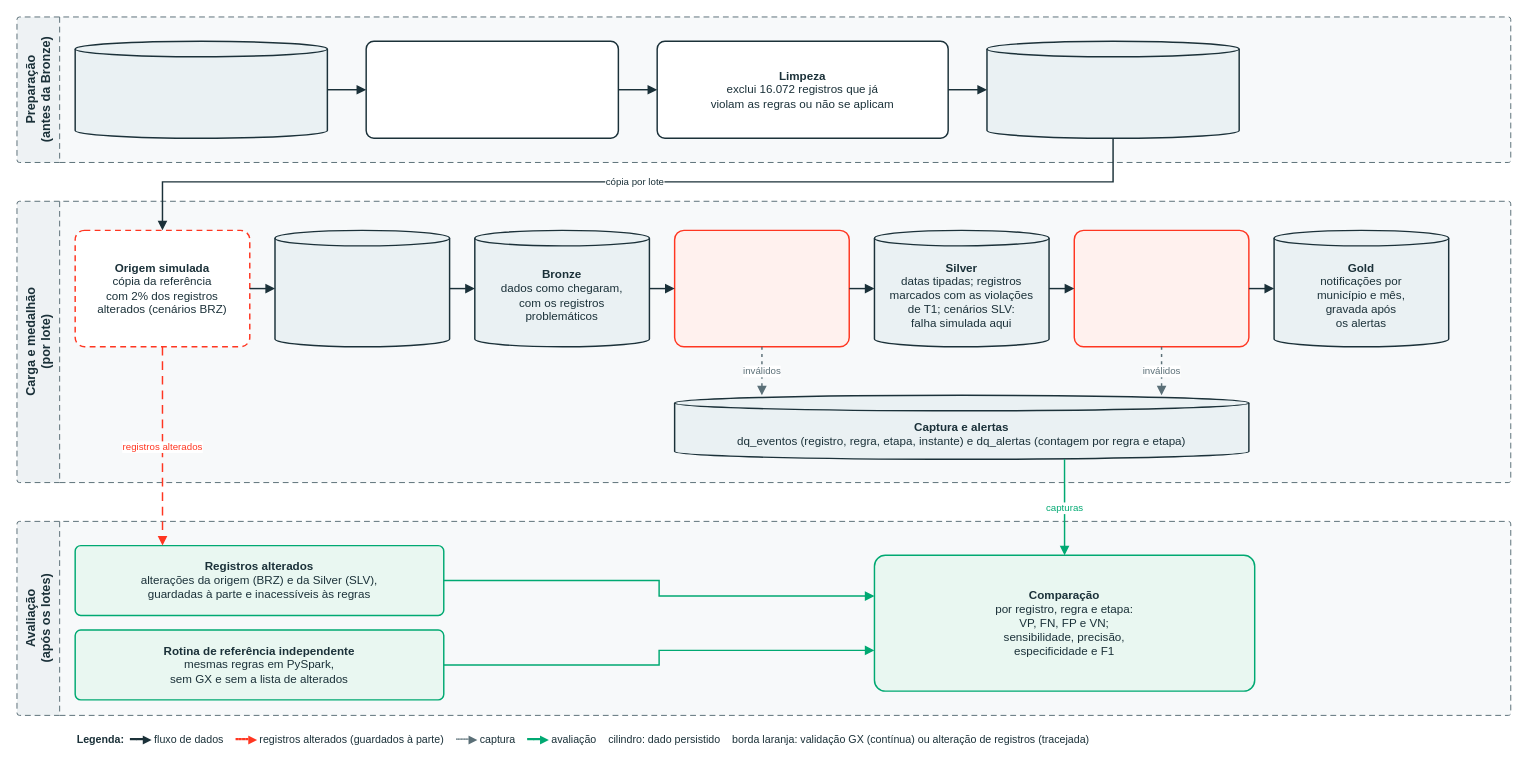
Some shapes in this 1528 by 769 pixel diagram are drawn without their labels. Here are the shapes that lost their labels. From the top down, the centre of each, then its label:
At point 201,89: "Volume raw arquivos originais do DataSUS (.dbc) e malha municipal do IBGE".
At point 492,89: "Extração leitura dos .dbc no ambiente: 966.987 registros, 122 campos".
At point 1112,89: "Referência N = 950.915 registros, ponto de partida de cada lote".
At point 362,288: "Volume landing arquivo do lote entregue pela origem".
At point 761,288: "T1 validação GX Bronze → Silver".
At point 1161,288: "T2 validação GX Silver → Gold".
